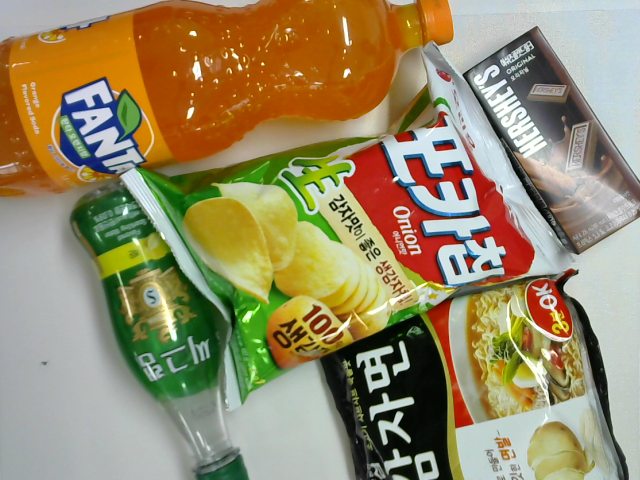Hush_Choco_Drink: (459, 25, 640, 256)
Hwanta_Orange_1.5L: (1, 1, 456, 201)
Pocachip_Onion: (122, 38, 576, 413)
Potato: (319, 268, 631, 480)
Seagram_Lemon_Carbonated_Water: (70, 180, 254, 480)
